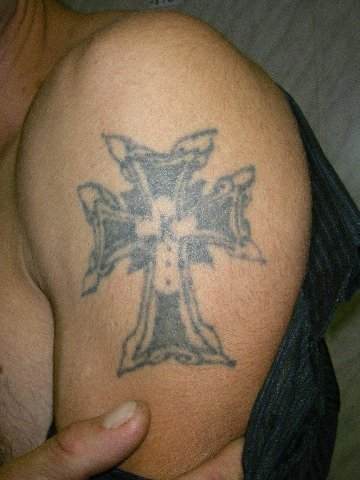tatu3_bukva: (80, 140, 261, 380)
